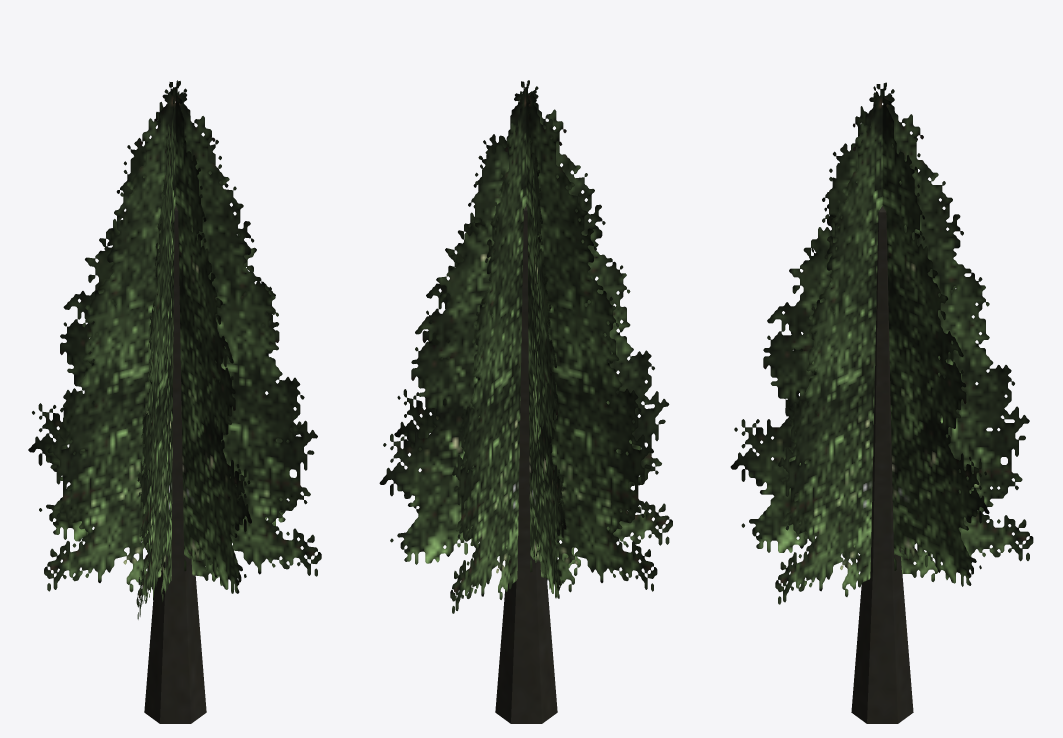
File: tree09.glb
The picture shows the model from 3 angles, left to right: view 1: azimuth 30°, elevation 25°; view 2: azimuth 150°, elevation 25°; view 3: azimuth 270°, elevation 25°; orthographic projection.
Parts seen in each view (by area): view 1: tree09; view 2: tree09; view 3: tree09.
Boxes of the visible parts, x1=… form: tree09: x1=28, y1=80, x2=321, y2=723; tree09: x1=379, y1=80, x2=672, y2=723; tree09: x1=730, y1=82, x2=1033, y2=723.
Bounding box in the file's own units: 6 × 12.5 × 6.
Materials: 1 (1 with a texture image).
